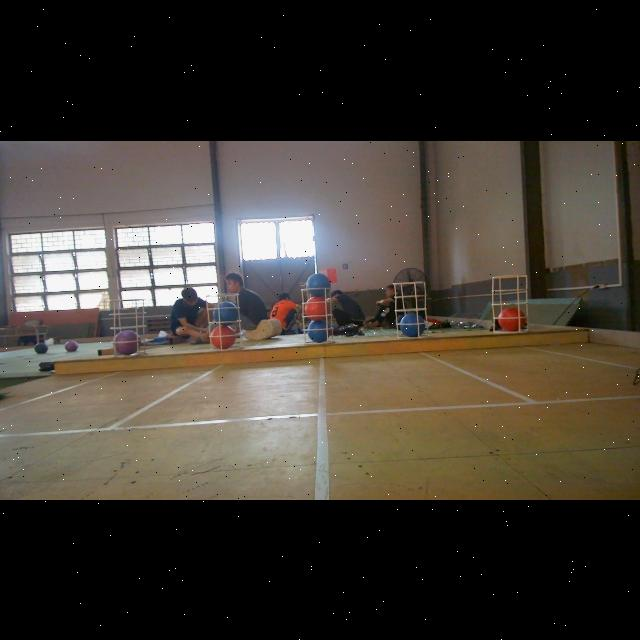B: (306, 272, 332, 296), (214, 300, 238, 324), (398, 314, 424, 336), (308, 320, 332, 342)
R: (495, 306, 527, 332), (208, 326, 238, 350), (304, 296, 328, 320)
